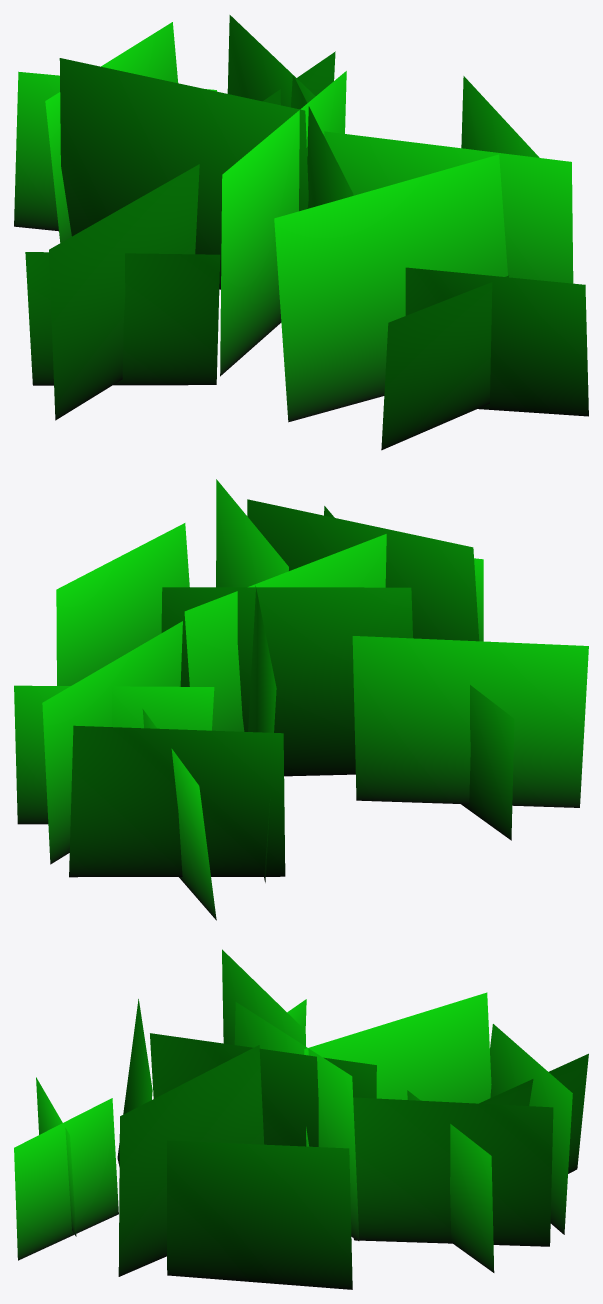
Rendered from Grass_Size06.fbx.
3 renders of one model, top to bottom at view 1: azimuth 30°, elevation 25°; view 2: azimuth 150°, elevation 25°; view 3: azimuth 270°, elevation 25°, orthographic. The views are drawn at different scales.
Visible parts, largest first — view 1: PP_grass_04; view 2: PP_grass_04; view 3: PP_grass_04.
Boxes of the visible parts, x1,y1,x2,y2 form: PP_grass_04: (14,15,588,450); PP_grass_04: (14,479,588,920); PP_grass_04: (14,949,588,1289).
Size of the model in its own units: 99.14 by 41.48 by 122.
